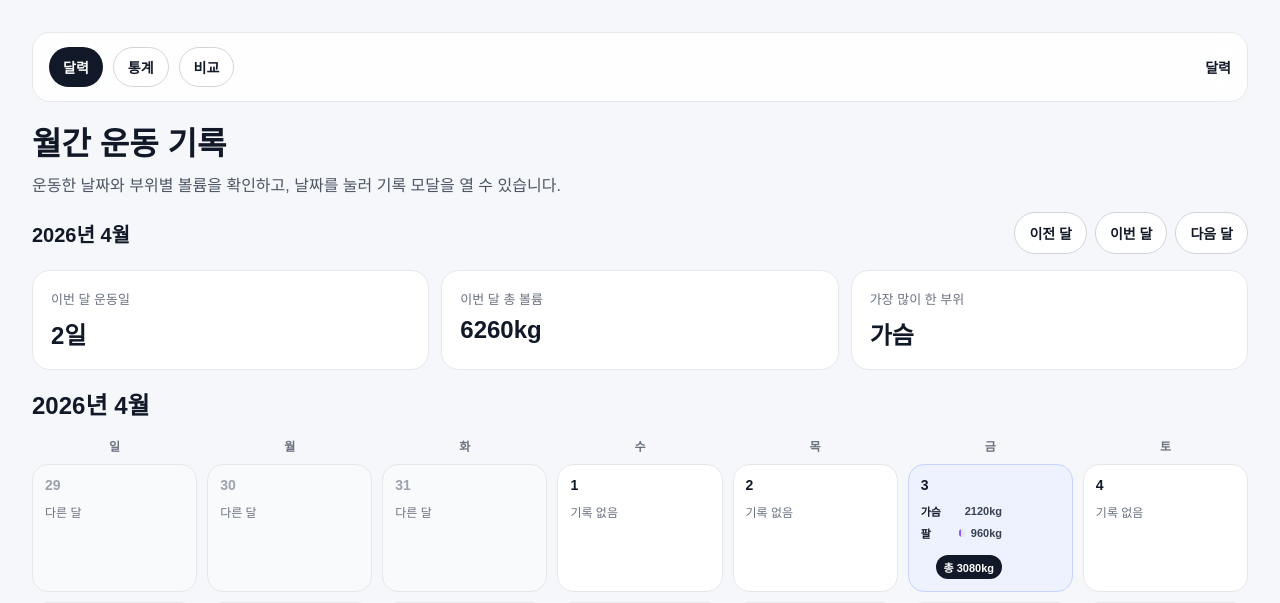
Test case: CalendarClientPage › 이전 달, 다음 달, 이번 달 이동 시 달력과 월간 요약이 함께 갱신되어야 한다
Expected: the text named "현재 보고 있는 월" reads "2026년 4월", [32,224,130,246]
Expected: the text "6260kg" is shown, [460,316,542,343]
Click the button "다음 달".
click(1212, 233)  # box [1176,212,1248,254]
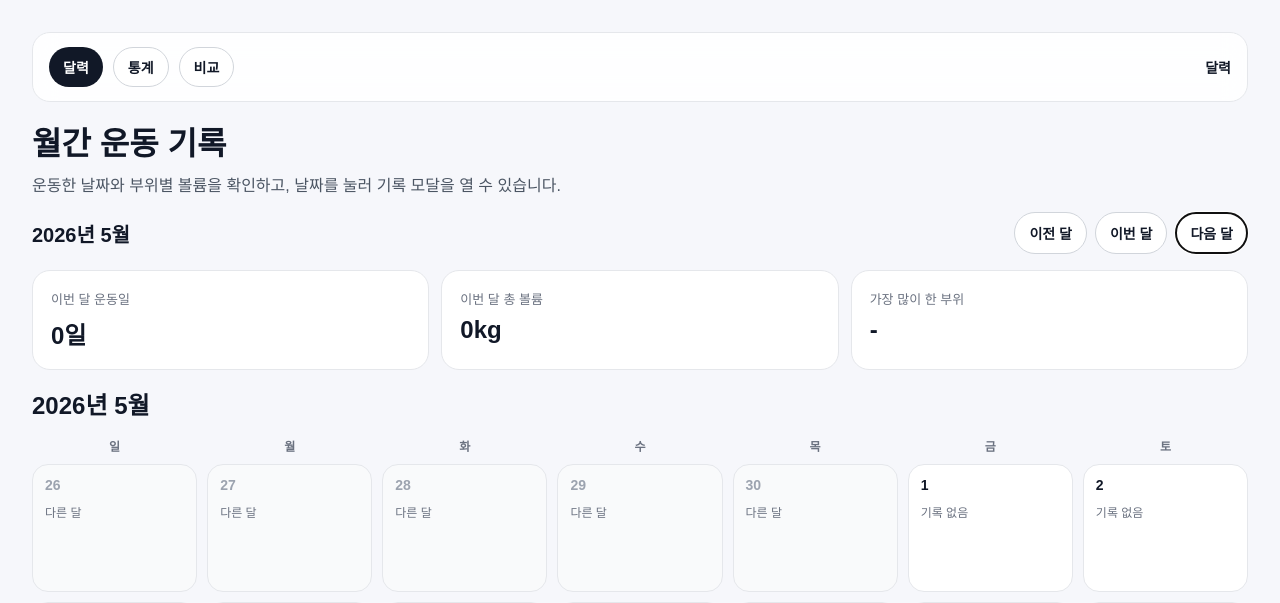
Now the text named "현재 보고 있는 월" reads "2026년 5월", box [32,224,130,246]
Now the text "0일" is shown, box [51,322,86,349]
Now the button "2026-04-03" is gone
Click the button "이번 달".
click(1131, 233)  # box [1095,212,1167,254]
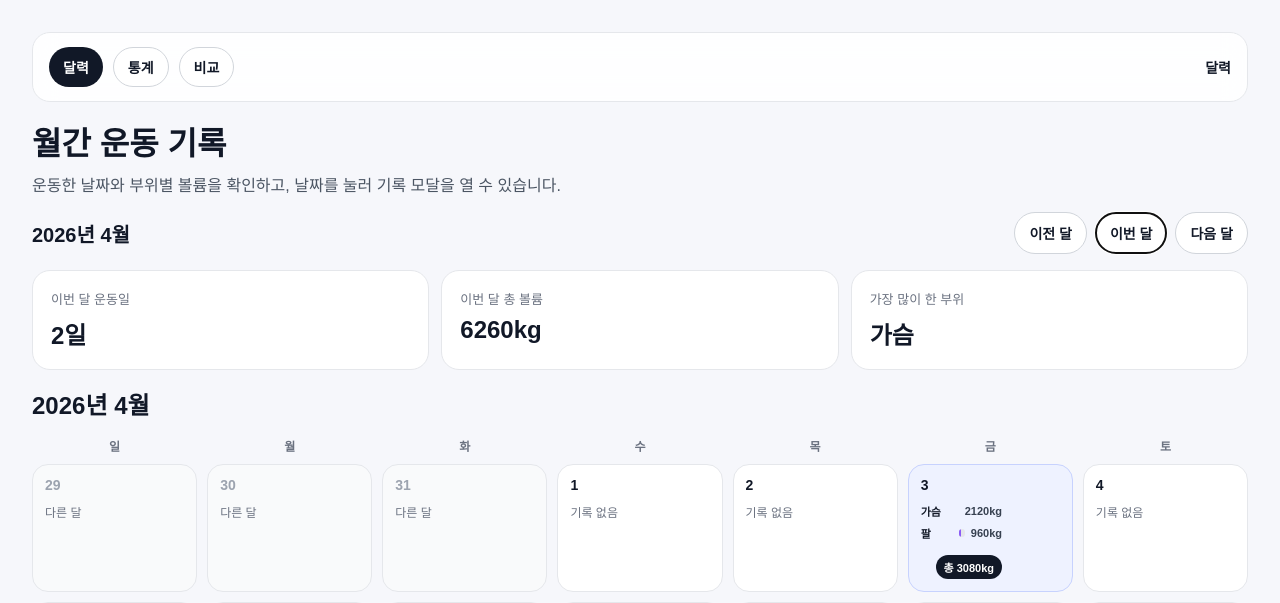
Now the text named "현재 보고 있는 월" reads "2026년 4월", box [32,224,130,246]
Now the text "6260kg" is shown, box [460,316,542,343]
Now the button with aria-label "2026-04-03" is shown, box [908,464,1073,592]
